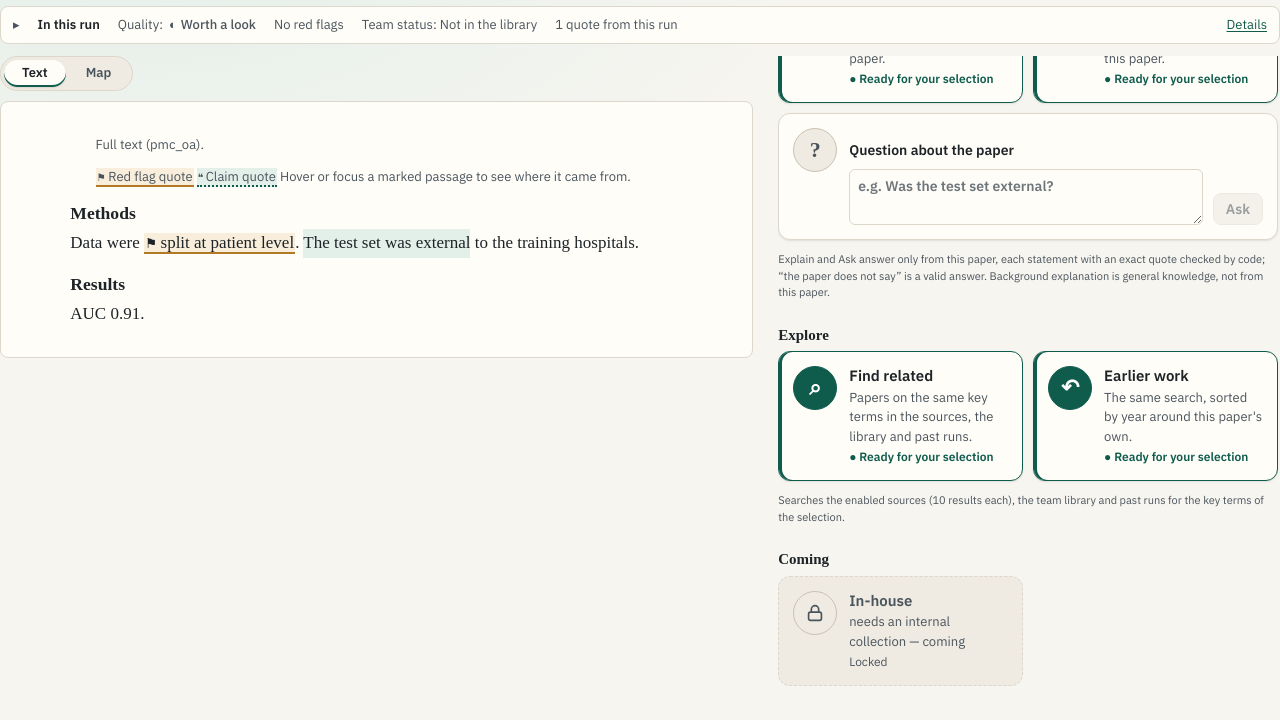
Test: ReaderPage › finds related papers for the selection, with the query, warnings and team badges
(page scrolled)
Check: the heading "Methods" is shown, box [70,203,136,223]
Step 1. Click the button "Find related" → (891, 376), box [849,366,933,386]
(page scrolled)
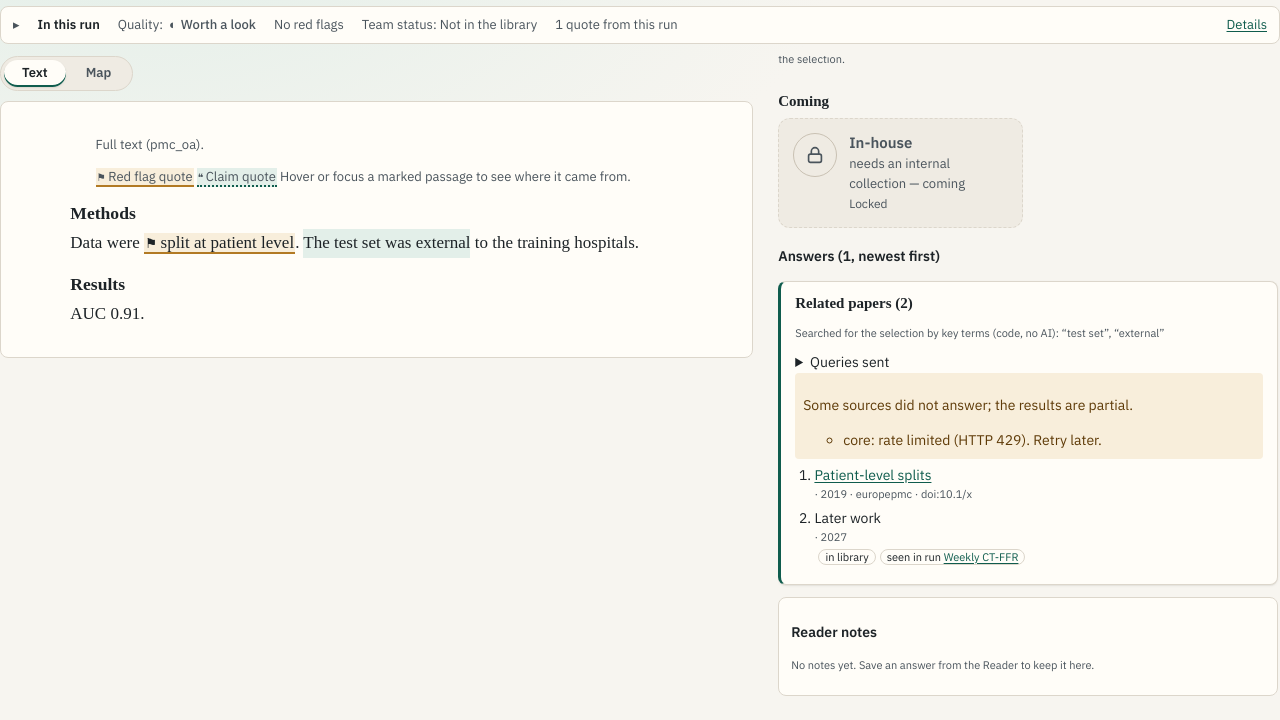
Check: the heading "Related papers (2)" is shown, box [795,296,913,312]
Check: the text "key terms (code, no AI): “test set”, “external”" is shown, box [795,326,1164,340]
Check: the message shows "core: rate limited (HTTP 429)", box [795,374,1263,460]
